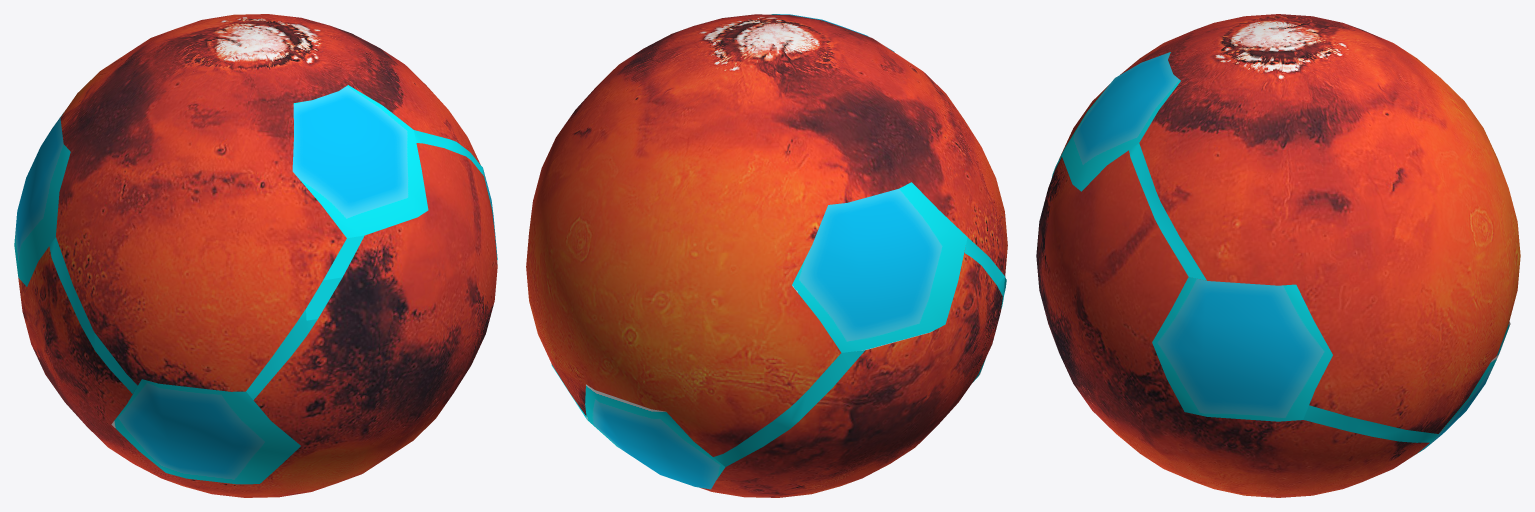
Rendered from Hexgaonal Structure with Mars.fbx.
3 renders of one model, left to right at view 1: azimuth 30°, elevation 25°; view 2: azimuth 150°, elevation 25°; view 3: azimuth 270°, elevation 25°, orthographic.
Visible parts, largest first — view 1: Mars, polySurface75, polySurface73, polySurface76, polySurface71; view 2: Mars, polySurface71, polySurface69, polySurface76; view 3: Mars, polySurface67, polySurface75, polySurface76, polySurface69.
Boxes of the visible parts, <box> form: Mars: <box>18,14,497,497</box>; polySurface75: <box>292,85,428,238</box>; polySurface73: <box>111,379,300,484</box>; polySurface76: <box>49,130,483,399</box>; polySurface71: <box>14,112,70,286</box>; Mars: <box>526,14,1007,497</box>; polySurface71: <box>792,182,967,352</box>; polySurface69: <box>585,384,725,489</box>; polySurface76: <box>551,237,1004,466</box>; Mars: <box>1036,14,1520,497</box>; polySurface67: <box>1152,277,1332,421</box>; polySurface75: <box>1062,52,1180,191</box>; polySurface76: <box>1052,143,1438,442</box>; polySurface69: <box>1417,321,1510,453</box>.
Bounding box in the file's own units: 0.8015 × 0.8 × 0.8.
